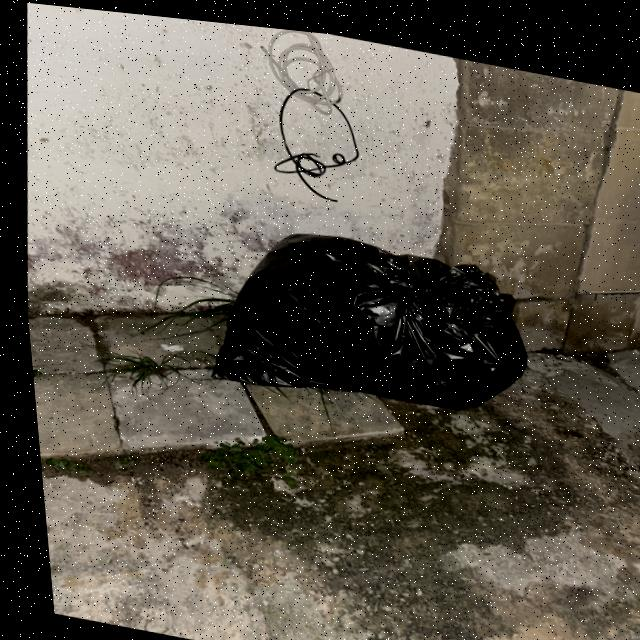Mixed Waste -Black Bag-: (196, 205, 538, 431)
